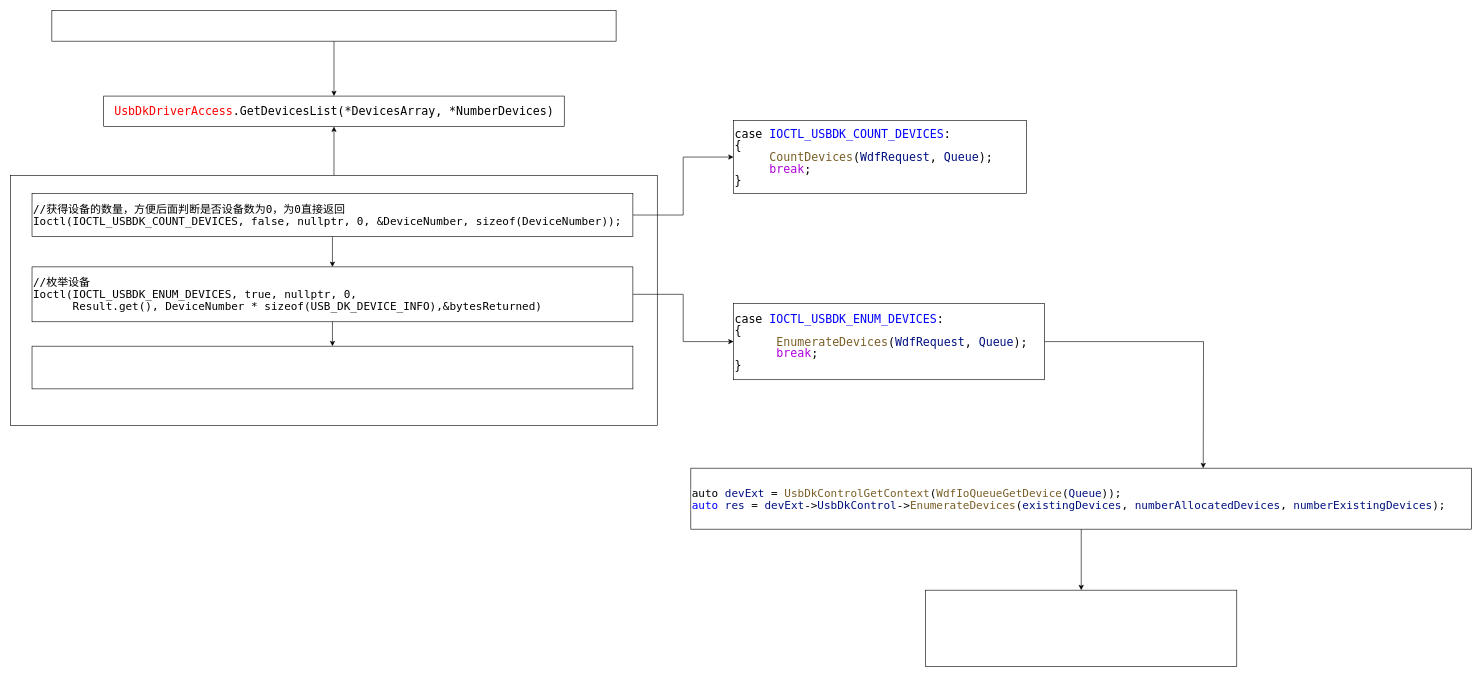
Some shapes in this 1482 by 677 pixel diagram are drawn without their labels. Here are the shapes that lost their labels. From the top down, the centre of each, then its label:
(x=333, y=25): UsbDk_GetDevicesList (PUSB_DK_DEVICE_INFO *DevicesArray, PULONG NumberDevices)
(x=332, y=367): //返回的设备数组 DevicesArray = Result.release();
